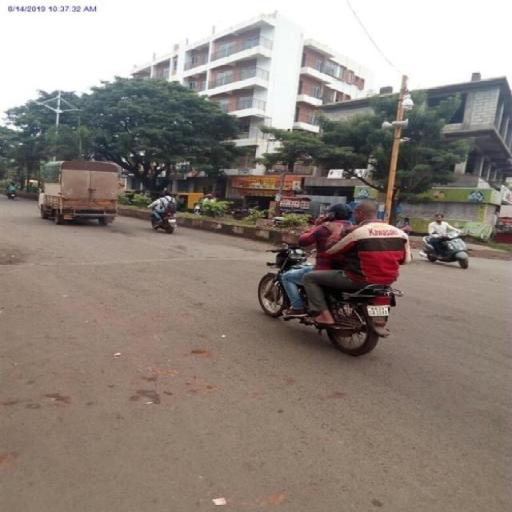bike: (254, 198, 414, 358)
numberplate: (368, 304, 391, 317)
using mobile: (322, 212, 338, 222)
withouthelmet: (354, 202, 376, 222), (333, 203, 351, 223)
